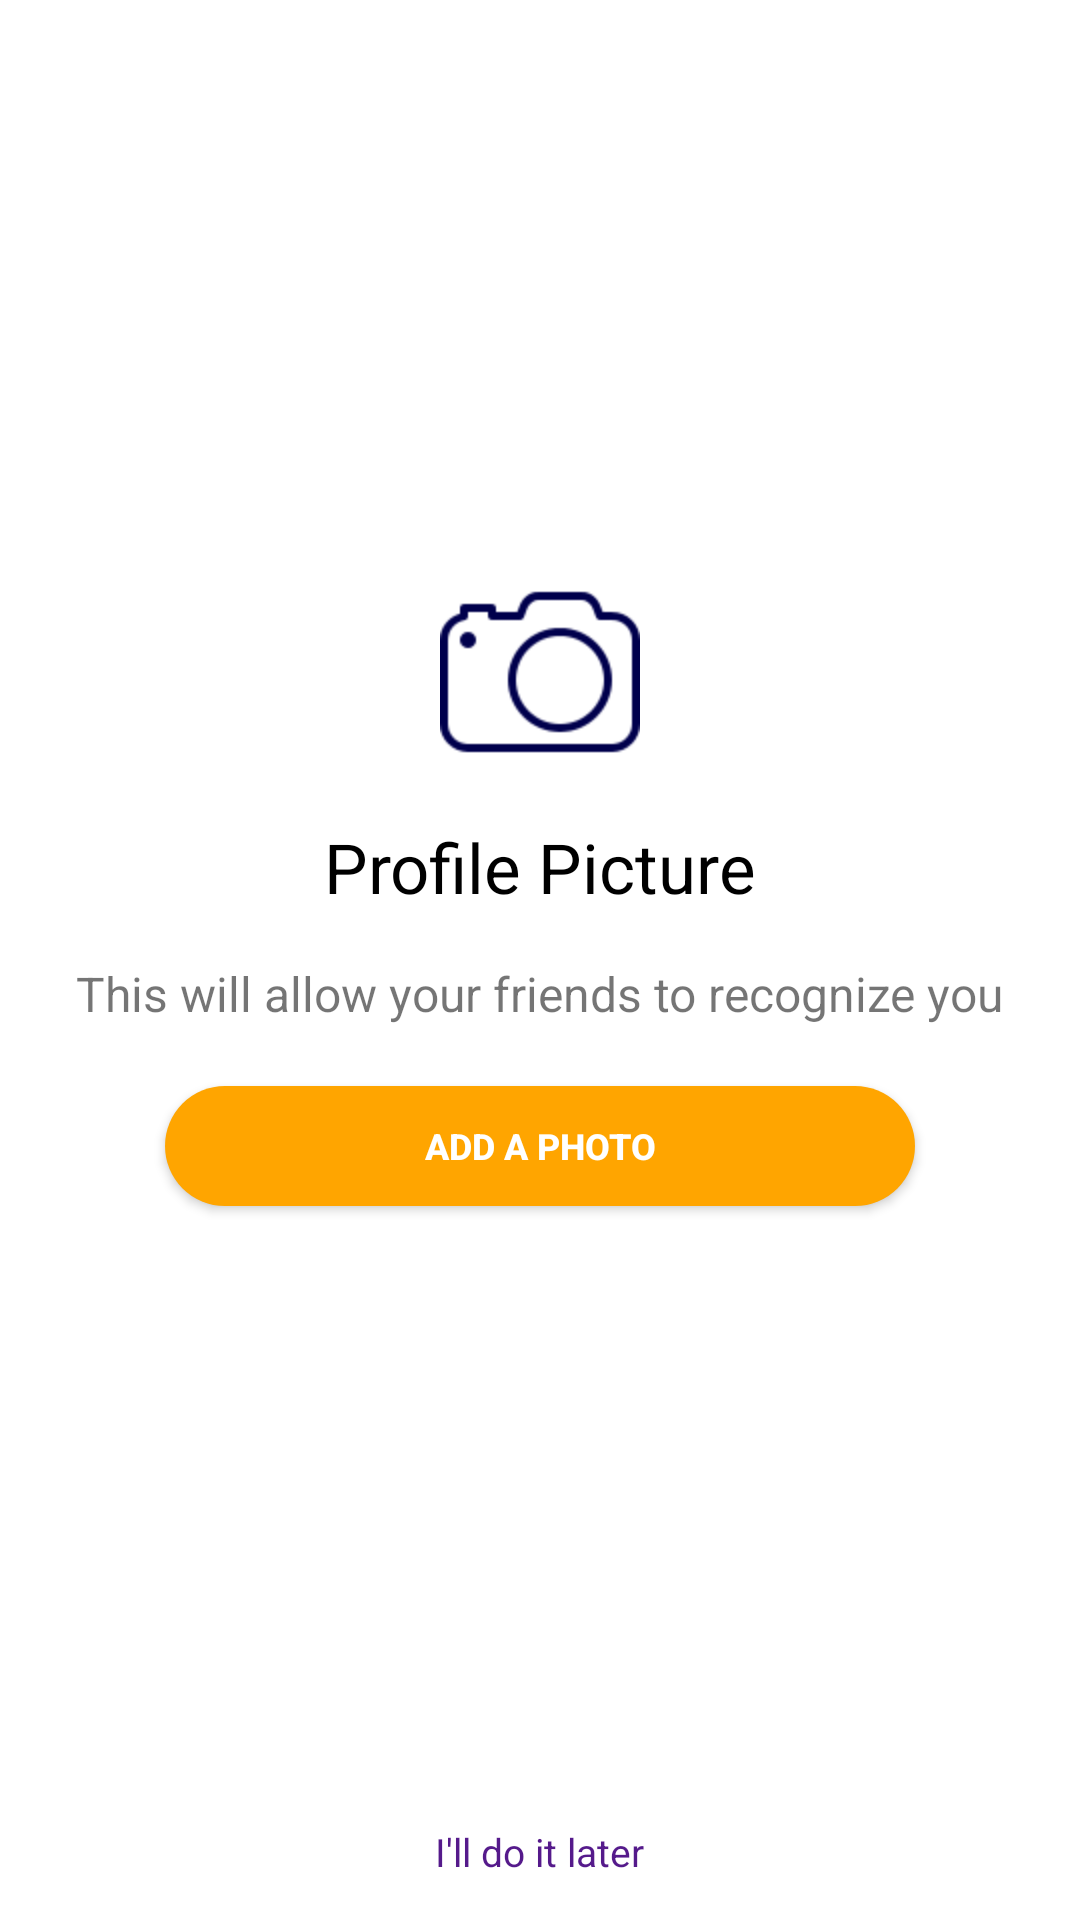

Icon bounding boxes for this 1080 x 1920 phone screenshot, format [x1,y1,x2,y2]:
camera: [440,591,640,753]
